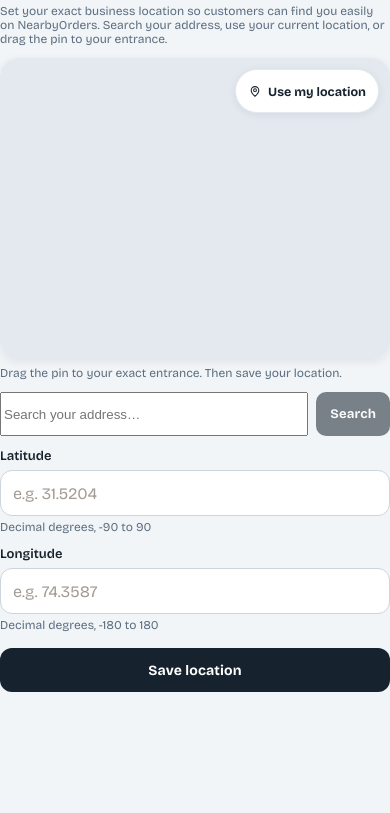
Test case: OwnerLocation map picker (Phase 12) › address search: picking a result fills the fields and drops the pin there
Expected: the button "Save location" is shown, [0, 648, 389, 692]
In the field named "Search address": (154, 414) [0, 392, 308, 436], type "Liberty Market Lahore"
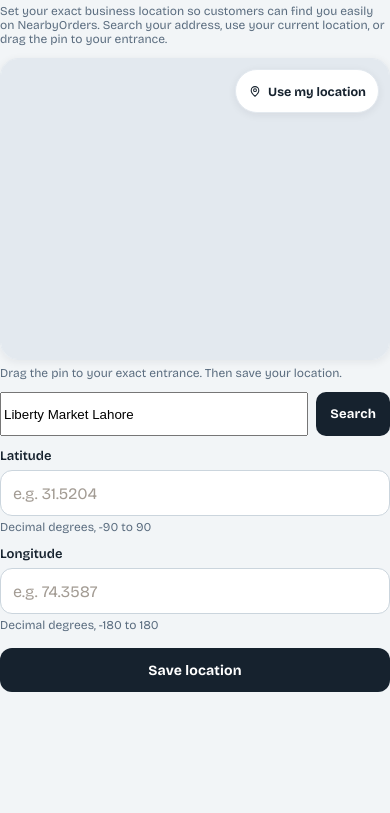
Click the button "Search": (353, 414) [316, 392, 389, 436]
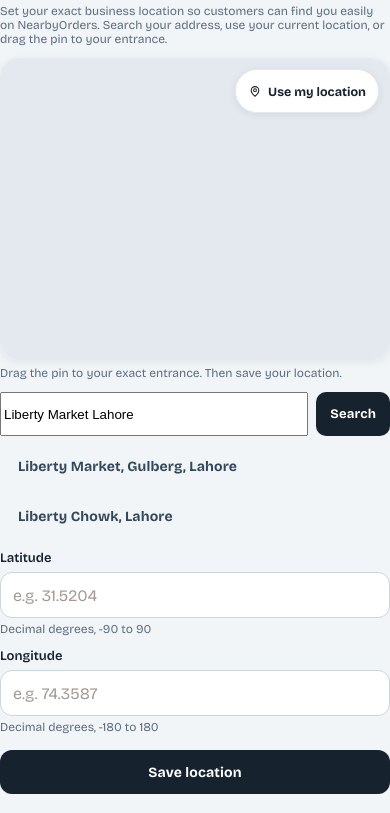
Click the button "Liberty Market, Gulberg, Lahore": (195, 466) [0, 444, 389, 488]
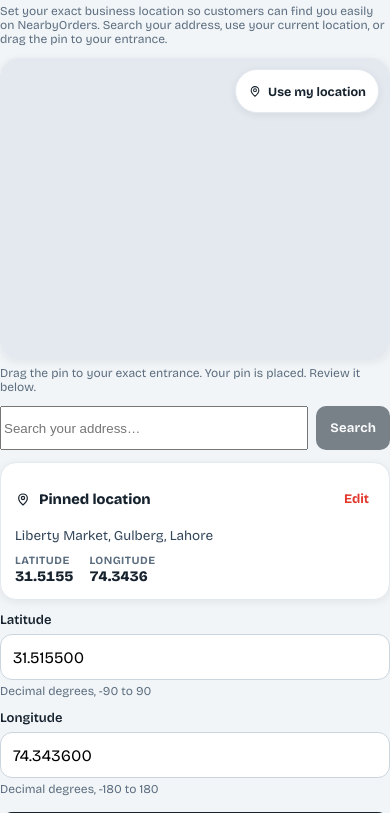
Result: the text "Liberty Market, Gulberg, Lahore" is shown at [15, 527, 213, 544]
Result: the field labelled "Latitude" holds "31.515500" at [0, 634, 389, 680]
Result: the field labelled "Longitude" holds "74.343600" at [0, 732, 389, 778]
